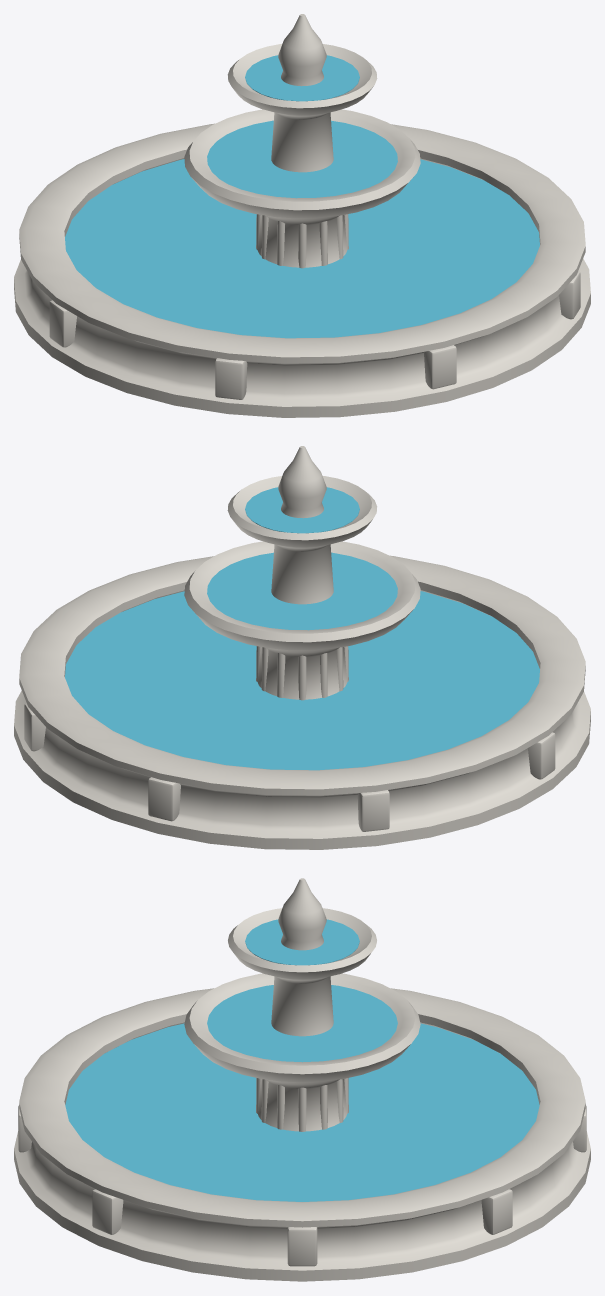
The model's file is Town_Fountain.fbx.
3 views of the same model, one above another, from view 1: azimuth 30°, elevation 25°; view 2: azimuth 150°, elevation 25°; view 3: azimuth 270°, elevation 25° (orthographic).
Visible parts, largest first — view 1: Town_Fountain; view 2: Town_Fountain; view 3: Town_Fountain.
Part boxes in pixels (box(x1,y1,x2,y2)): Town_Fountain: box(14, 14, 590, 417); Town_Fountain: box(14, 446, 590, 849); Town_Fountain: box(14, 878, 590, 1281).
Size of the model in its own units: 6.64 by 3.56 by 6.64.
